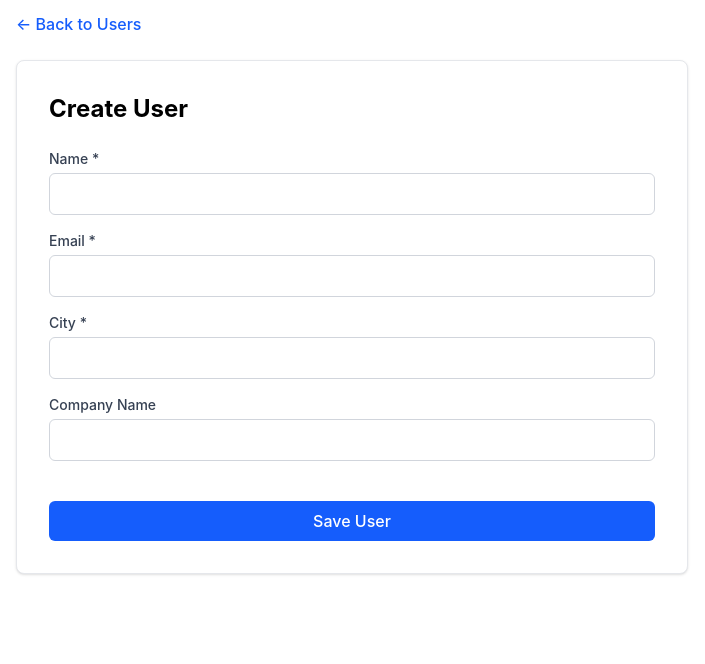
UserForm Validation › shows validation errors when submitting empty form
Click the button "Save User" at x=352, y=521, box [49,501,655,541]
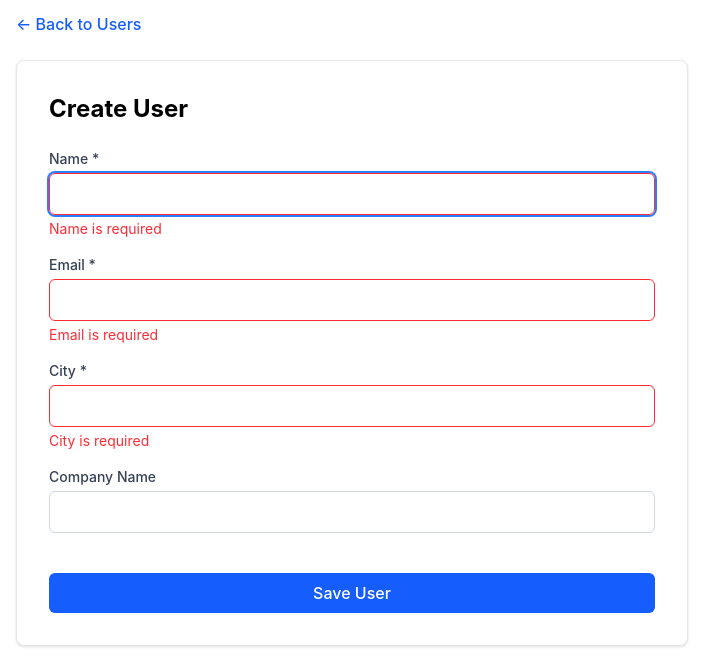
Check: the text "Name is required" is shown, box [49,220,162,237]
Check: the text "Email is required" is shown, box [49,326,158,343]
Check: the text "City is required" is shown, box [49,432,149,449]
